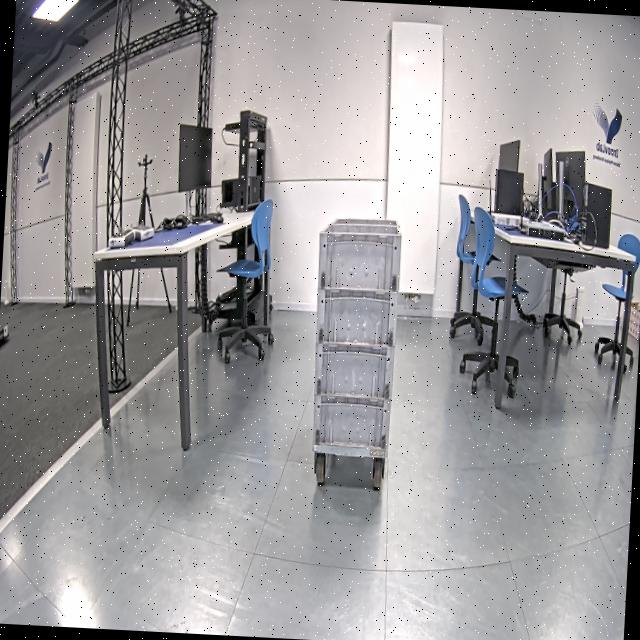Box8G: (316, 212, 404, 296), (314, 287, 400, 349), (312, 342, 396, 401), (312, 396, 391, 450)
